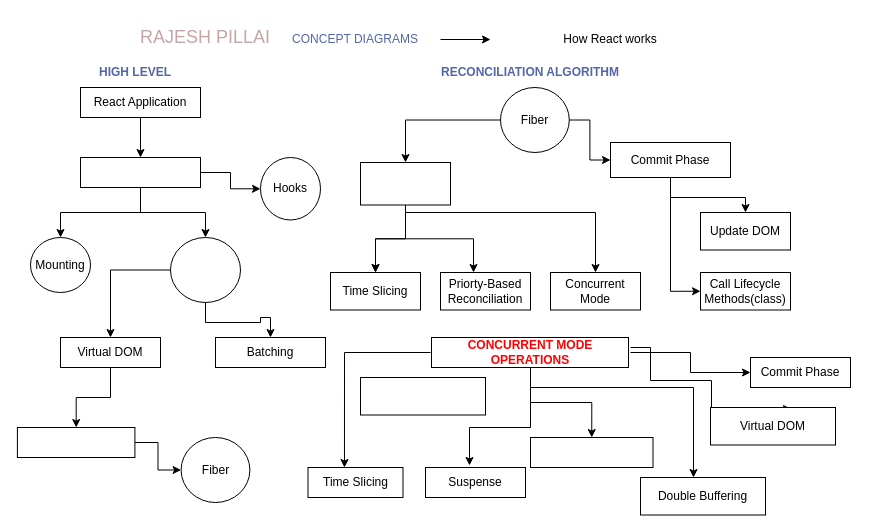
Some shapes in this 869 by 532 pixel diagram are drawn without their labels. Here are the shapes that lost their labels. From the top down, the box of each, then its label:
(80, 156, 200, 188): Components
(360, 162, 450, 205): Render Phase
(170, 236, 240, 302): Rendering
(360, 376, 486, 415): RequestIdleCallback
(16, 426, 135, 458): Reconciliation
(530, 436, 653, 468): Browser Event Loop
